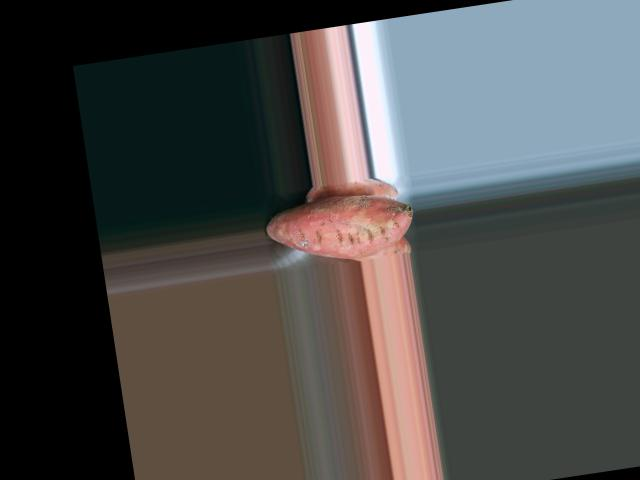sweet_potato: (265, 192, 418, 265)
